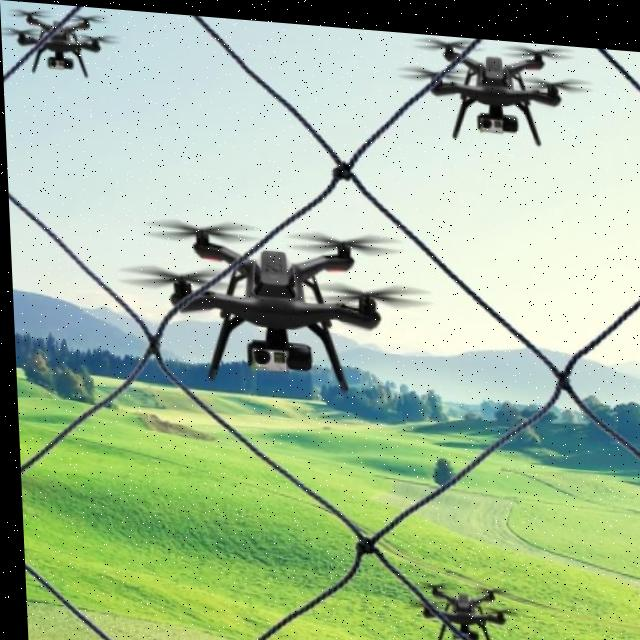drones: (108, 182, 447, 417), (354, 23, 632, 152), (346, 552, 549, 640), (0, 4, 135, 93)
